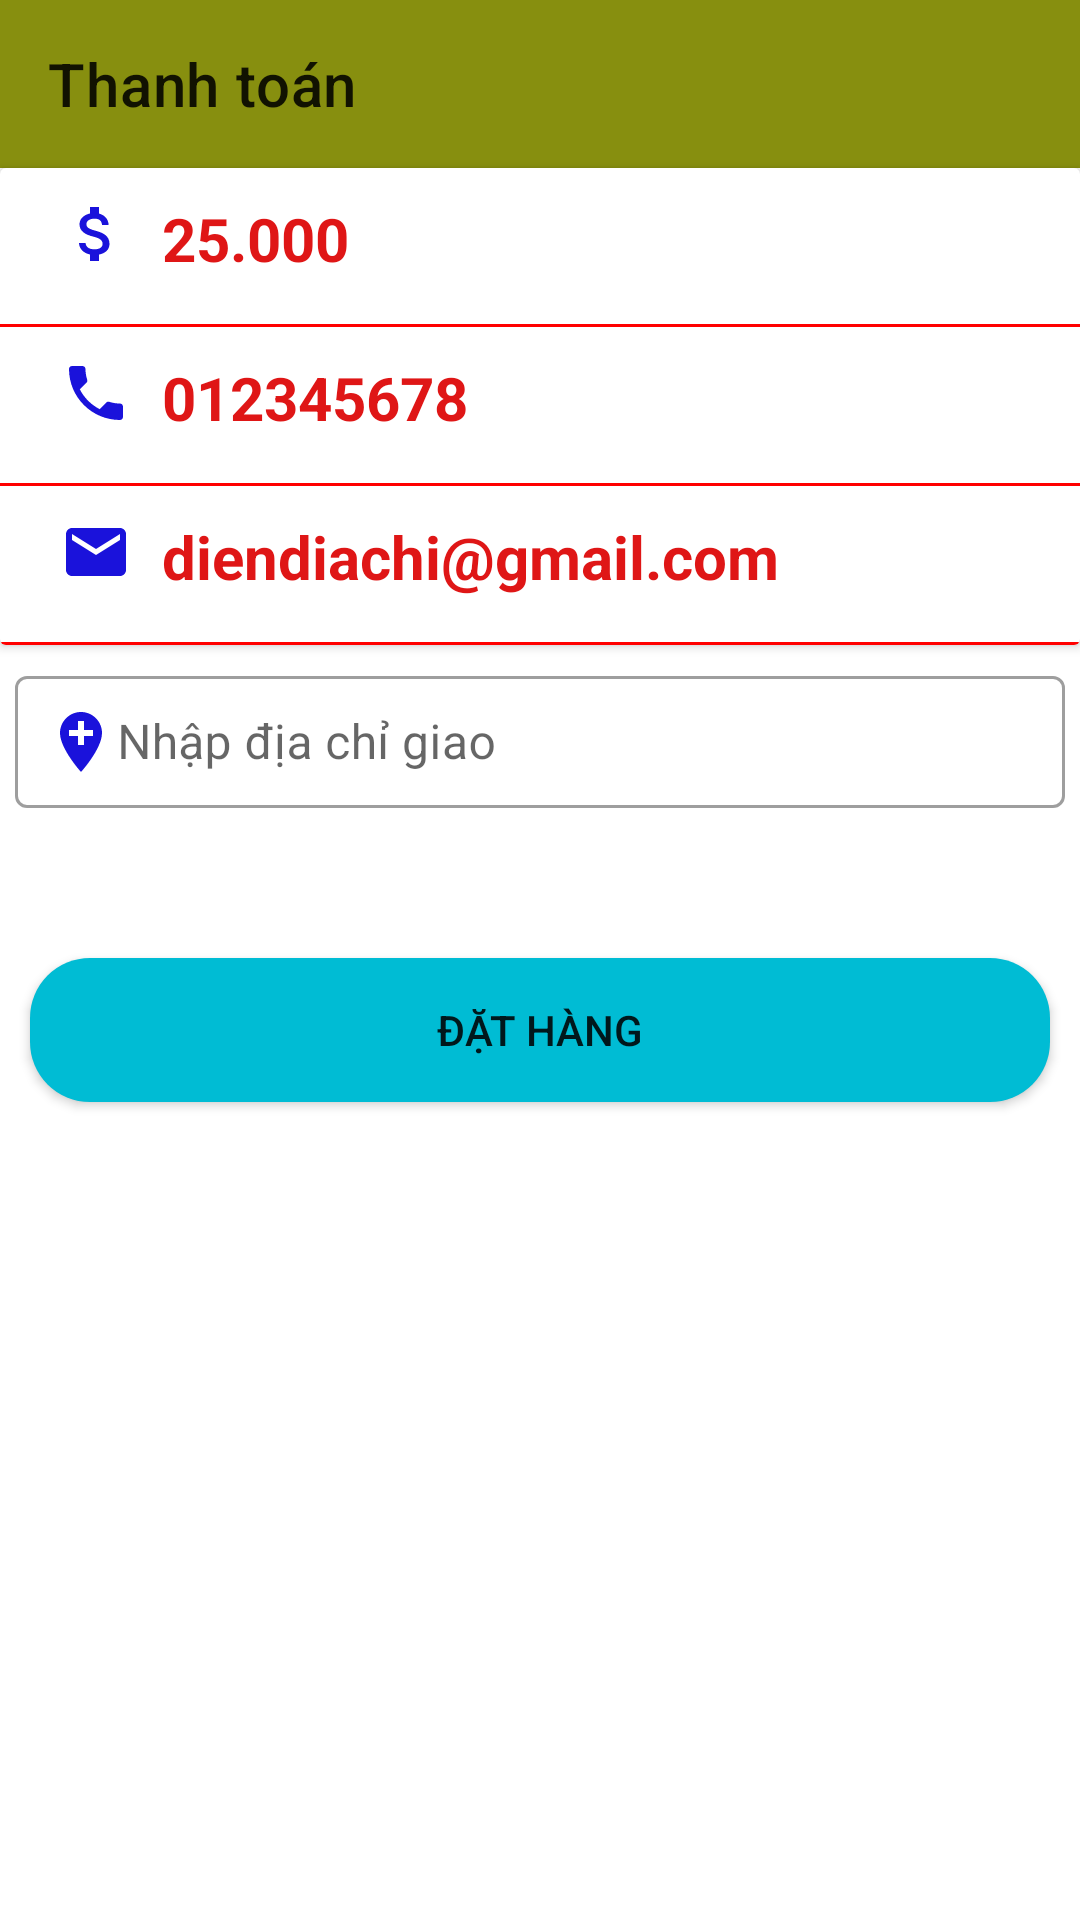

Where icons sit on this 1080w x 1920h app screen, as [x1,y1,x2,y2]:
attach money: [79,207,110,261]
email: [66,528,126,576]
phone: [69,366,123,420]
